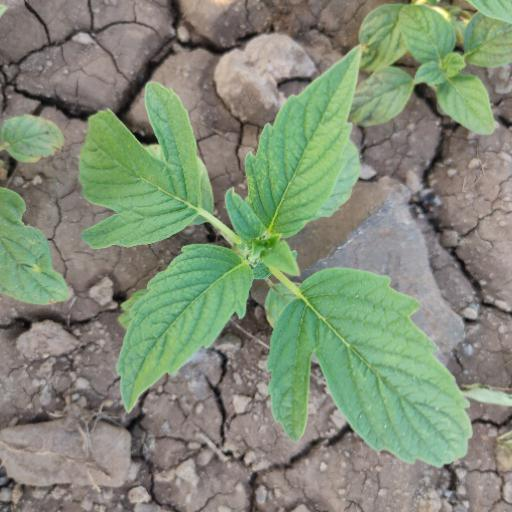crop: (68, 45, 482, 481)
